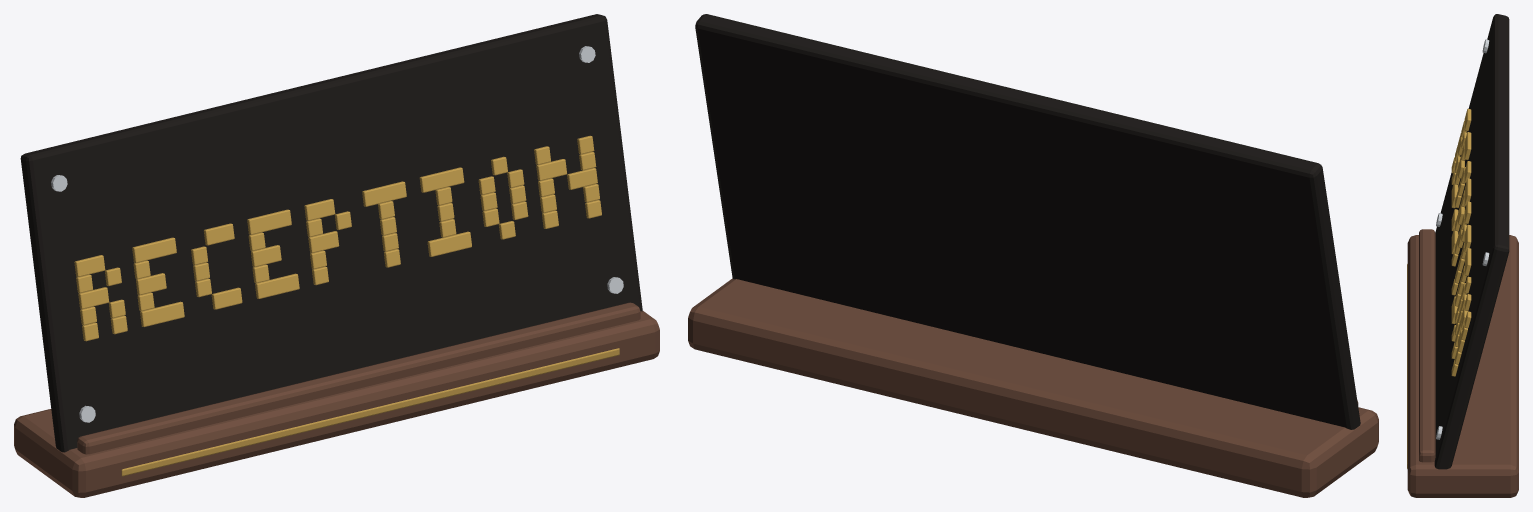
File: hh_cat_reception_sign.glb
3 views of the same model, side by side, from view 1: azimuth 30°, elevation 25°; view 2: azimuth 150°, elevation 25°; view 3: azimuth 270°, elevation 25° (orthographic). The views are drawn at different scales.
Parts seen in each view (by area): view 1: plaque, sign_base, plaque_slot, base_inlay, letter.008, letter.029, letter.018, letter.034, letter.038, letter.012, letter.022; view 2: plaque, sign_base; view 3: plaque, sign_base, plaque_slot, base_inlay, letter.008, letter.034, letter.029, letter.018.
Part boxes in pixels (x1,y1,x2,y2): plaque: [20, 14, 642, 452]; sign_base: [14, 311, 659, 497]; plaque_slot: [77, 302, 640, 454]; base_inlay: [121, 348, 619, 476]; letter.008: [132, 237, 176, 262]; letter.029: [362, 181, 406, 206]; letter.018: [247, 209, 291, 234]; letter.034: [419, 167, 464, 192]; letter.038: [427, 231, 471, 256]; letter.012: [140, 301, 184, 326]; letter.022: [255, 273, 299, 298]; plaque: [695, 14, 1360, 429]; sign_base: [688, 278, 1378, 497]; plaque: [1434, 14, 1509, 469]; sign_base: [1407, 235, 1518, 497]; plaque_slot: [1419, 229, 1435, 462]; base_inlay: [1407, 264, 1407, 468]; letter.008: [1464, 132, 1471, 159]; letter.034: [1464, 248, 1471, 275]; letter.029: [1464, 224, 1471, 252]; letter.018: [1464, 178, 1471, 205].
Bounding box in the file's own units: 0.4 × 0.2 × 0.08.
